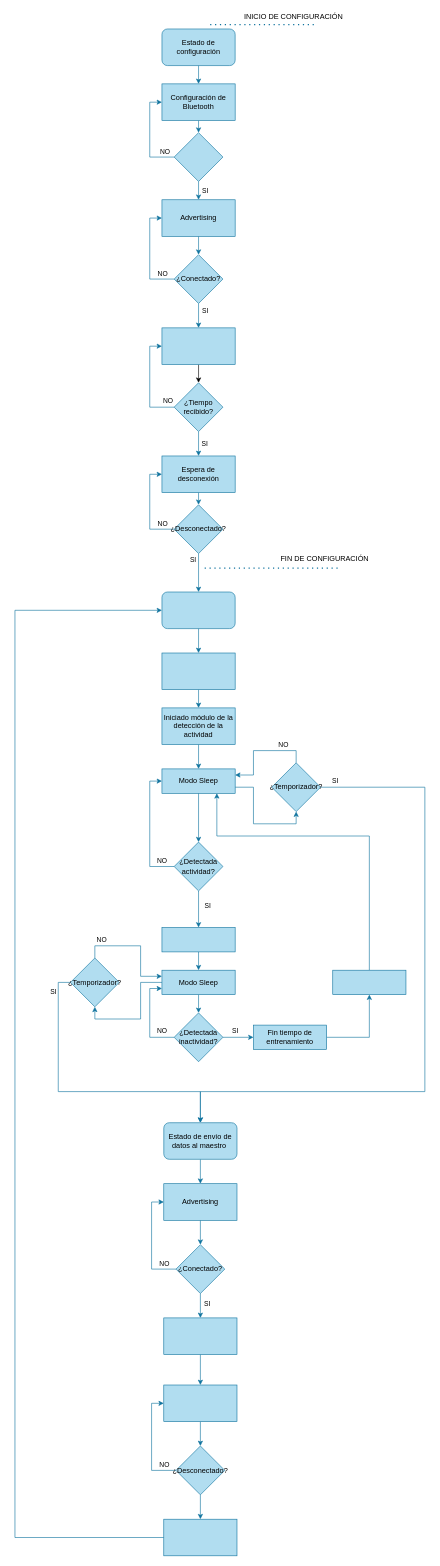
Image size: 440x1566. Some labels were removed from this diagram. The centre of each missing label's shape, as x and y in pixels:
Envío de los datos: the point at 200,1336
Estado de espera de desconexión: the point at 200,1403
Estado de recepción del tiempo del maestro: the point at 198,345
Estado funcionamiento normal: the point at 198,610
Inicio del temporizador (Tiempo establecido en la configuración): the point at 198,671
Inicio tiempo de entrenamiento: the point at 198,939
Registro de dato: the point at 369,982
Reinicio de valores y temporizador: the point at 200,1537
¿Configurado?: the point at 198,156
